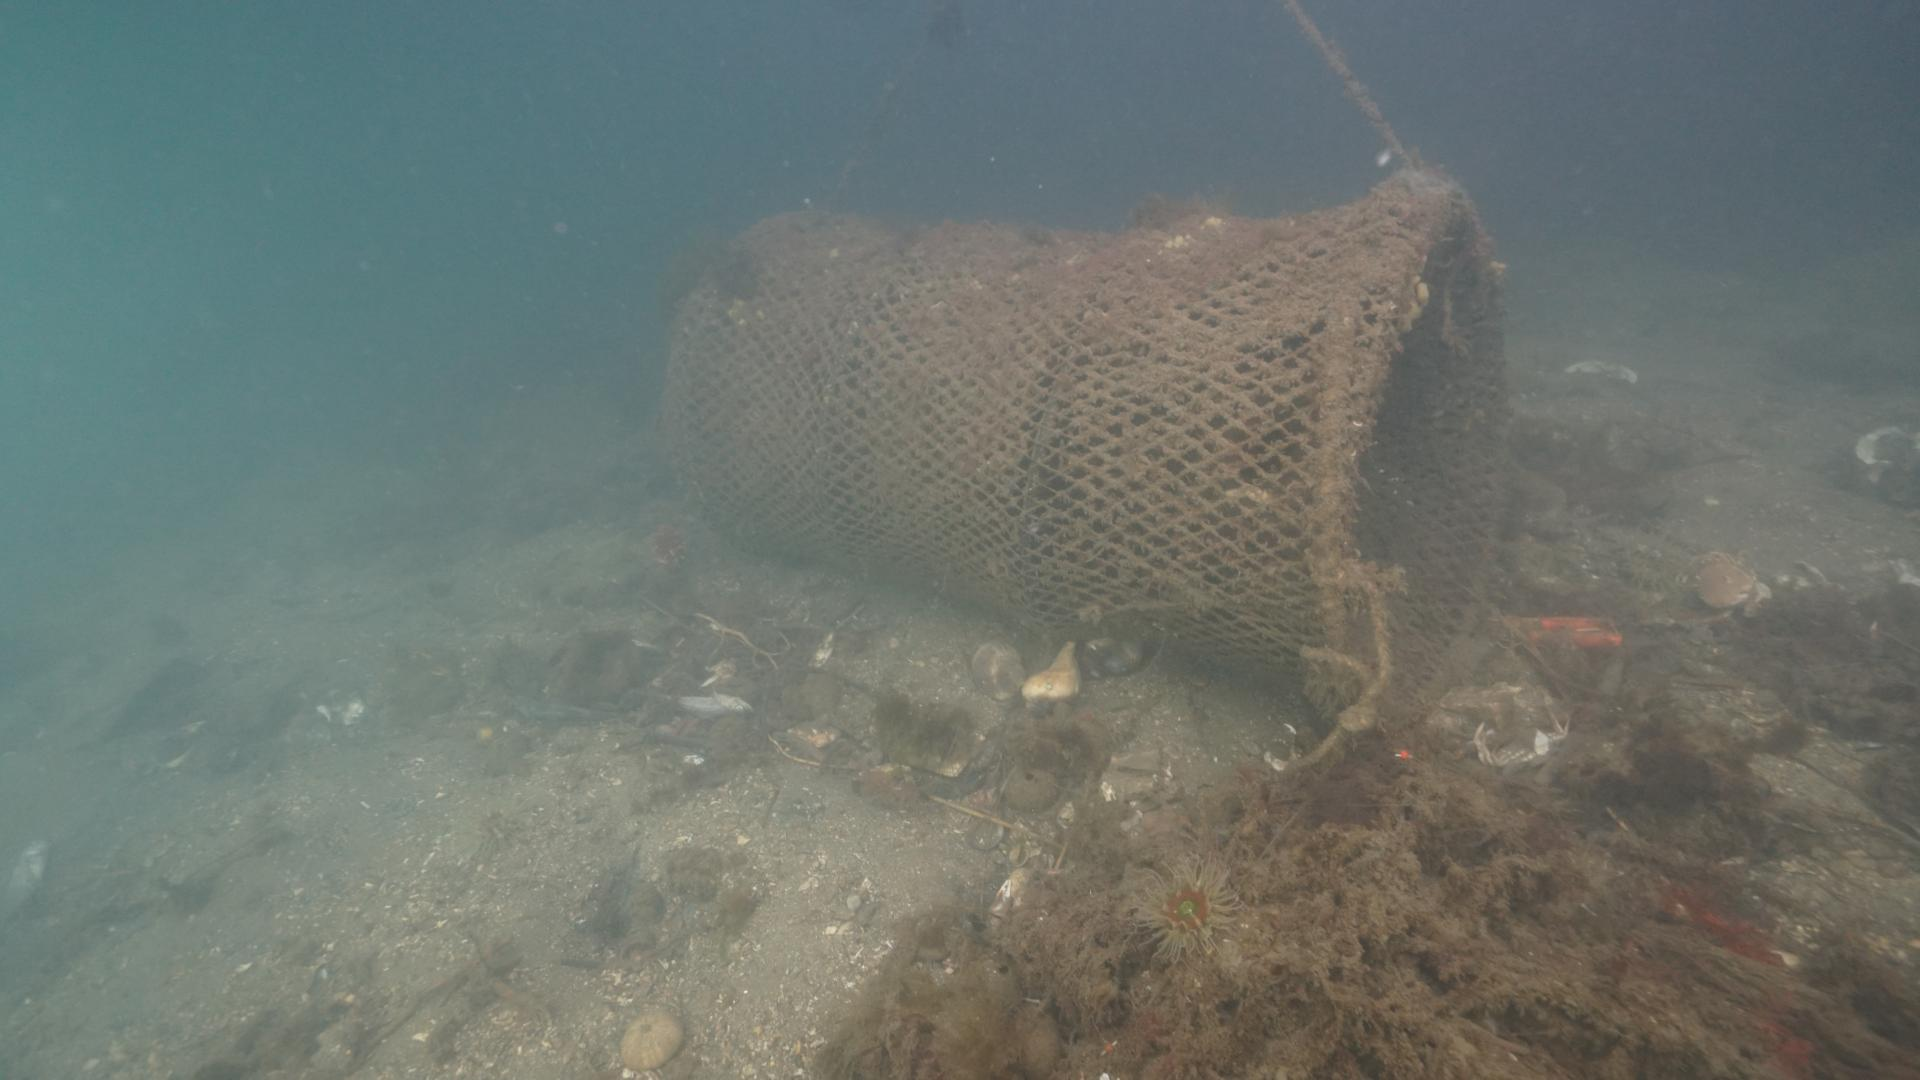rope: (1276, 0, 1411, 167)
spring fish trap: (659, 173, 1519, 742)
